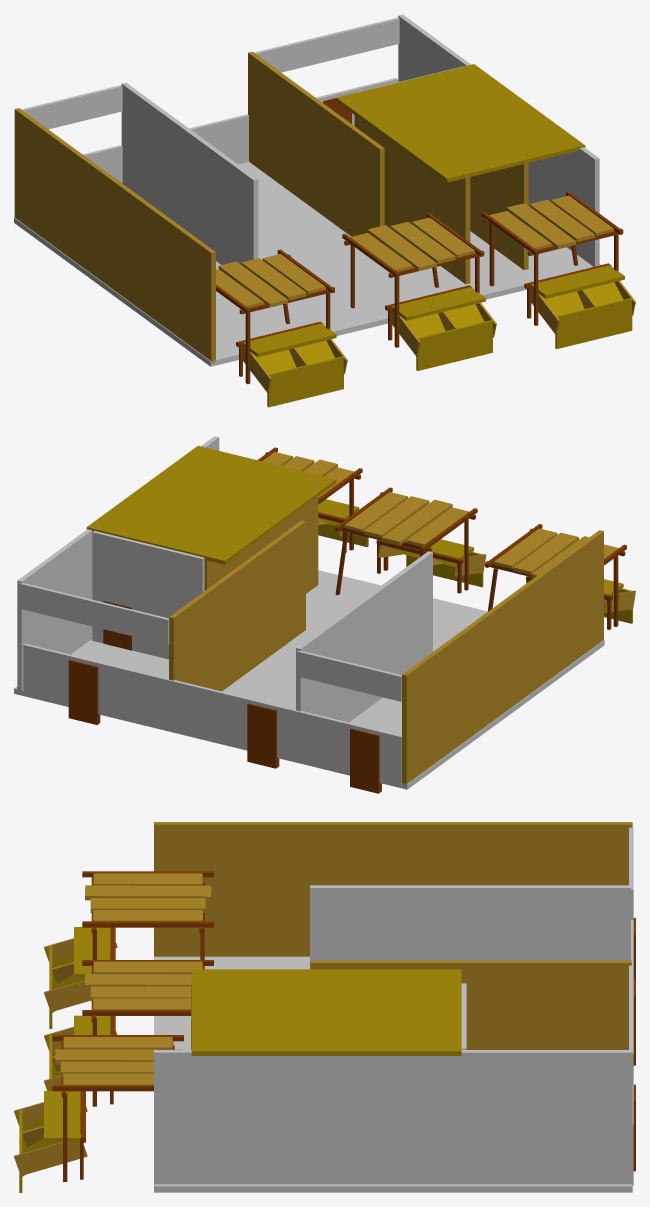
File: markettendtrade.gltf
3 renders of one model, top to bottom at view 1: azimuth 30°, elevation 25°; view 2: azimuth 150°, elevation 25°; view 3: azimuth 270°, elevation 25°, orthographic. The views are drawn at different scales.
Parts seen in each view (by area): view 1: Box22, Box21, Box31, Box25, Box23, Box24, Box27, Box30, Box29, Box28, Box63, Box10 (+20 smaller); view 2: Box22, Box28, Box31, Box25, Box21, Box23, Box26, Box24, Box29, Box79, Box27, Box75 (+11 smaller); view 3: Box24, Box22, Box23, Box31, Box25, Box21, Box49, Box57, Box48, Box69, Box51, Box16 (+14 smaller).
Part boxes in pixels (box(x1,y1,x2,y2)): Box22: box(14, 108, 215, 363); Box21: box(14, 162, 600, 366); Box31: box(336, 64, 585, 182); Box25: box(248, 51, 384, 236); Box23: box(121, 82, 258, 264); Box24: box(398, 14, 599, 266); Box27: box(354, 115, 470, 284); Box30: box(470, 160, 528, 270); Box29: box(254, 17, 399, 72); Box28: box(83, 78, 397, 183); Box63: box(555, 298, 632, 348); Box10: box(416, 320, 492, 370); Box22: box(402, 530, 603, 786); Box28: box(23, 643, 401, 787); Box31: box(86, 445, 336, 564); Box25: box(169, 520, 305, 691); Box21: box(14, 570, 604, 789); Box23: box(296, 551, 432, 722); Box26: box(92, 530, 204, 659); Box24: box(17, 436, 219, 691); Box29: box(18, 583, 169, 644); Box79: box(296, 650, 401, 701); Box27: box(204, 497, 318, 593); Box75: box(68, 660, 100, 724); Box24: box(154, 1050, 632, 1184); Box22: box(154, 822, 632, 956); Box23: box(310, 885, 630, 968); Box31: box(191, 969, 461, 1055); Box25: box(310, 960, 631, 1049); Box21: box(154, 956, 632, 1192); Box49: box(85, 885, 211, 900); Box57: box(44, 1091, 80, 1141); Box48: box(93, 873, 202, 885); Box69: box(63, 1037, 172, 1049); Box51: box(90, 898, 205, 912); Box16: box(93, 961, 202, 974).
Size of the model in its own units: 36.7 by 11.44 by 41.43.
